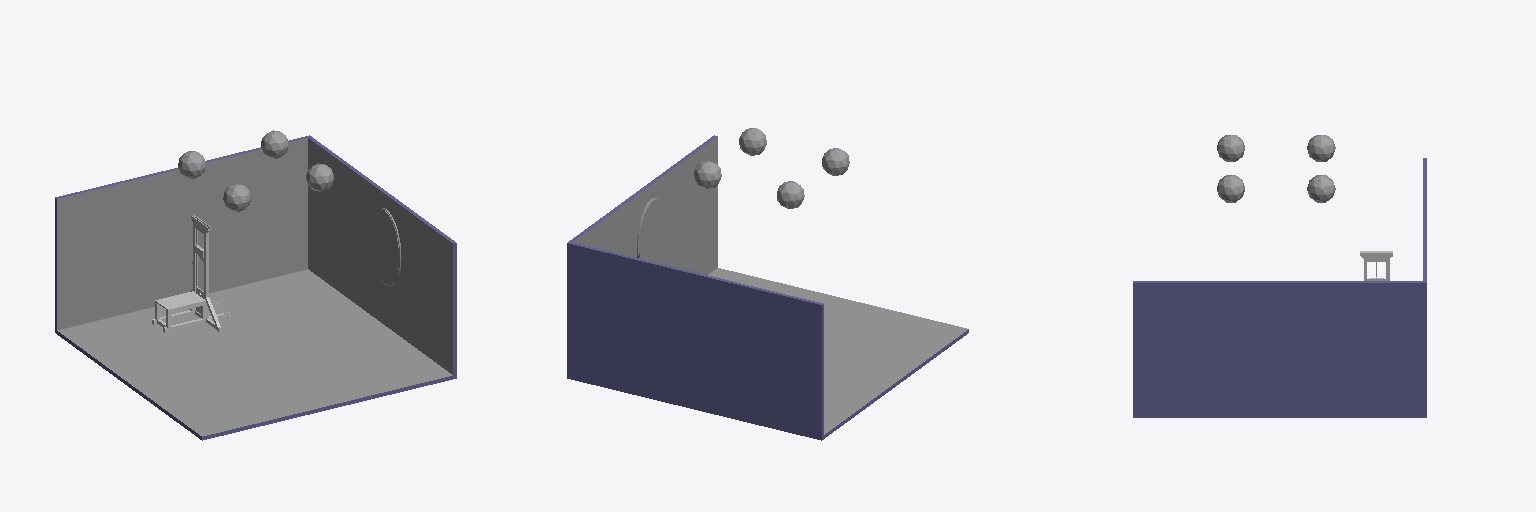
File: museum.obj
The picture shows the model from 3 angles: view 1: azimuth 30°, elevation 25°; view 2: azimuth 150°, elevation 25°; view 3: azimuth 270°, elevation 25°; orthographic projection.
Parts seen in each view (by area): view 1: Plane, Guillotine, Icosphere.003, Circle.001; view 2: Plane, Icosphere.003, Circle.001; view 3: Plane, Icosphere.003, Guillotine.
Boxes of the visible parts, x1=… form: Plane: x1=55, y1=135, x2=456, y2=440; Guillotine: x1=152, y1=215, x2=230, y2=332; Icosphere.003: x1=178, y1=130, x2=333, y2=211; Circle.001: x1=370, y1=209, x2=398, y2=284; Plane: x1=567, y1=135, x2=968, y2=440; Icosphere.003: x1=694, y1=128, x2=849, y2=208; Circle.001: x1=639, y1=199, x2=667, y2=263; Plane: x1=1133, y1=158, x2=1426, y2=417; Icosphere.003: x1=1217, y1=135, x2=1335, y2=202; Guillotine: x1=1360, y1=251, x2=1392, y2=280.
Size of the model in its own units: 10.15 by 7.58 by 10.15.